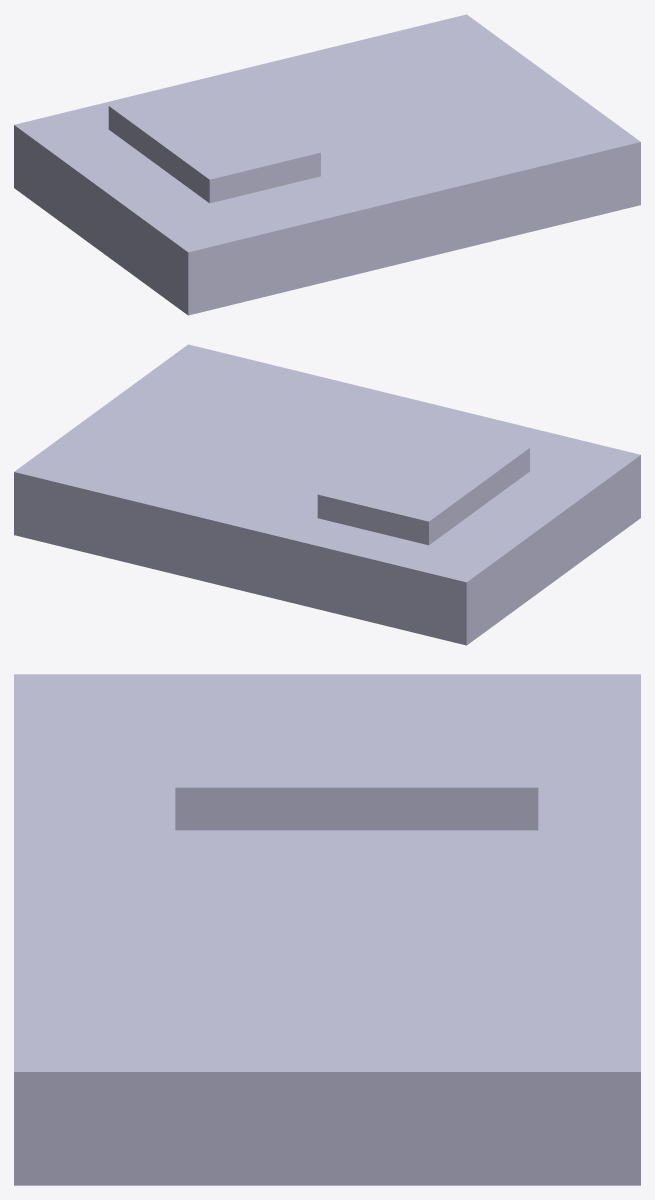
The model's file is first_robot_Body001.dae.
The picture shows the model from 3 angles, top to bottom: view 1: azimuth 30°, elevation 25°; view 2: azimuth 150°, elevation 25°; view 3: azimuth 270°, elevation 25°; orthographic projection. The views are drawn at different scales.
Parts seen in each view (by area): view 1: node0; view 2: node0; view 3: node0.
Boxes of the visible parts, bbox=[...] form: node0: bbox=[14, 14, 640, 315]; node0: bbox=[14, 344, 640, 645]; node0: bbox=[14, 674, 640, 1185].
Size of the model in its own units: 0.3 by 0.2 by 0.055.
